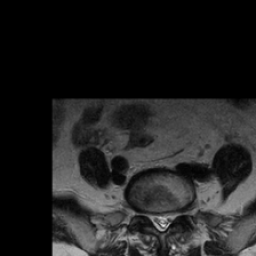CCS_normal: (158, 204, 164, 237)
LFS_stenosis: (173, 201, 181, 221)
LLS_normal: (164, 207, 173, 230)
RFS_severe_stenosis: (139, 203, 149, 227)
RLS_normal: (150, 206, 158, 232)
